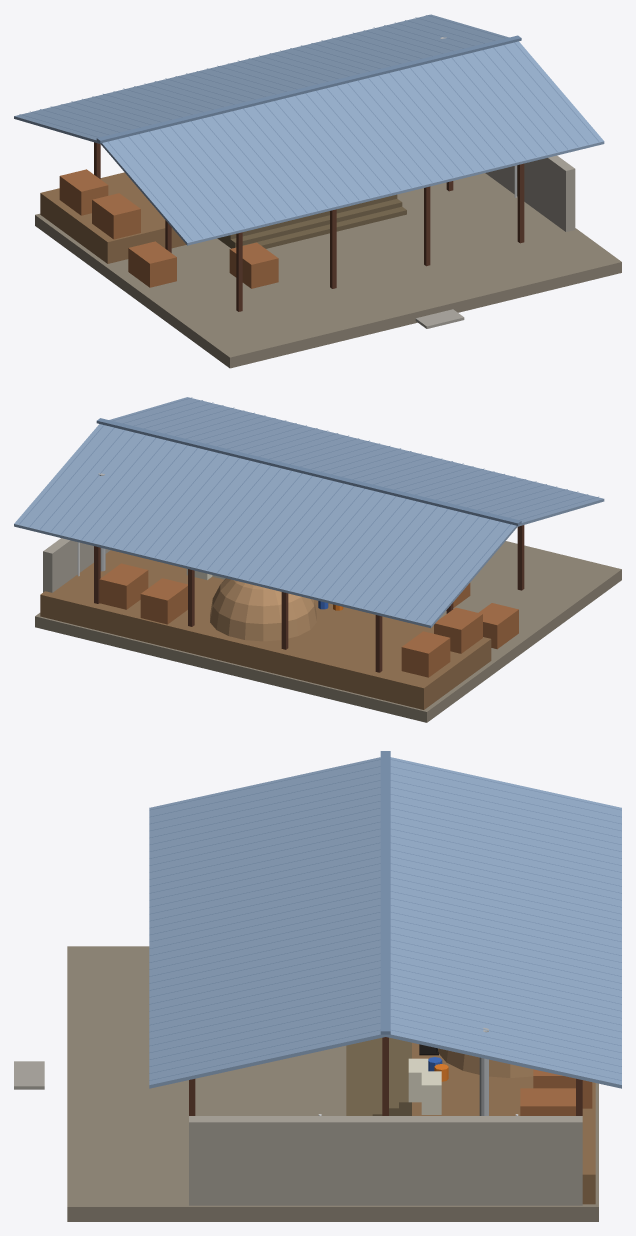
The picture shows the model from 3 angles, top to bottom: view 1: azimuth 30°, elevation 25°; view 2: azimuth 150°, elevation 25°; view 3: azimuth 270°, elevation 25°; orthographic projection. The views are drawn at different scales.
Visible parts, largest first — view 1: w451575564__roof-metal, w451575564__foundation-wall, w451575564__roof-seam, w451575564__wood-pile, w451575564__earth-wall, w451575564__stone-wall, w451575564__sleeper-wood, w451575564__steel-rust, w451575564__threshold; view 2: w451575564__roof-metal, w451575564__earth-wall, w451575564__foundation-wall, w451575564__roof-seam, w451575564__wood-pile, w451575564__clay-wall, w451575564__steel-rust, w451575564__stone-wall; view 3: w451575564__roof-metal, w451575564__foundation-wall, w451575564__stone-wall, w451575564__roof-seam, w451575564__earth-wall, w451575564__sleeper-wood, w451575564__wood-pile, w451575564__sack, w451575564__clay-wall, w451575564__steel-rust, w451575564__threshold.
Part boxes in pixels (x1,y1,x2,y2): w451575564__roof-metal: [14, 14, 604, 245]; w451575564__foundation-wall: [35, 173, 621, 368]; w451575564__roof-seam: [19, 15, 599, 240]; w451575564__wood-pile: [59, 169, 278, 288]; w451575564__earth-wall: [40, 172, 186, 263]; w451575564__stone-wall: [485, 155, 575, 231]; w451575564__sleeper-wood: [217, 194, 406, 248]; w451575564__steel-rust: [94, 142, 524, 311]; w451575564__threshold: [415, 309, 464, 328]; w451575564__roof-metal: [14, 397, 604, 628]; w451575564__earth-wall: [40, 550, 491, 709]; w451575564__foundation-wall: [35, 541, 621, 722]; w451575564__roof-seam: [19, 397, 598, 623]; w451575564__wood-pile: [99, 563, 518, 677]; w451575564__clay-wall: [210, 578, 316, 641]; w451575564__steel-rust: [94, 525, 524, 672]; w451575564__stone-wall: [43, 538, 110, 592]; w451575564__roof-metal: [149, 757, 621, 1088]; w451575564__foundation-wall: [67, 946, 598, 1221]; w451575564__stone-wall: [189, 1116, 582, 1205]; w451575564__roof-seam: [149, 751, 621, 1080]; w451575564__earth-wall: [412, 1042, 595, 1204]; w451575564__sleeper-wood: [346, 1037, 411, 1115]; w451575564__wood-pile: [520, 1069, 592, 1115]; w451575564__sack: [408, 1058, 441, 1114]; w451575564__clay-wall: [438, 1048, 533, 1077]; w451575564__steel-rust: [189, 1037, 582, 1115]; w451575564__threshold: [14, 1061, 44, 1089].
Size of the model in its own units: 20.2 by 6.74 by 18.53.
